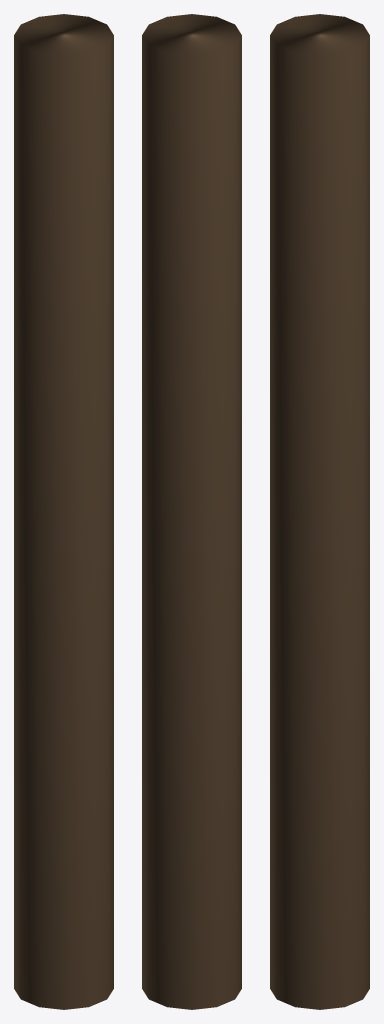
Rendered from Stick.glb.
3 views of the same model, side by side, from view 1: azimuth 90°, elevation 25°; view 2: azimuth 150°, elevation 25°; view 3: azimuth 270°, elevation 25° (orthographic).
Visible parts, largest first — view 1: Cylinder; view 2: Cylinder; view 3: Cylinder.
Boxes of the visible parts, x1,y1,x2,y2 form: Cylinder: [14, 14, 113, 1009]; Cylinder: [142, 14, 241, 1009]; Cylinder: [270, 14, 369, 1009].
Size of the model in its own units: 0.1669 by 1.76 by 0.1669.
Materials: 1 (1 with a texture image).
